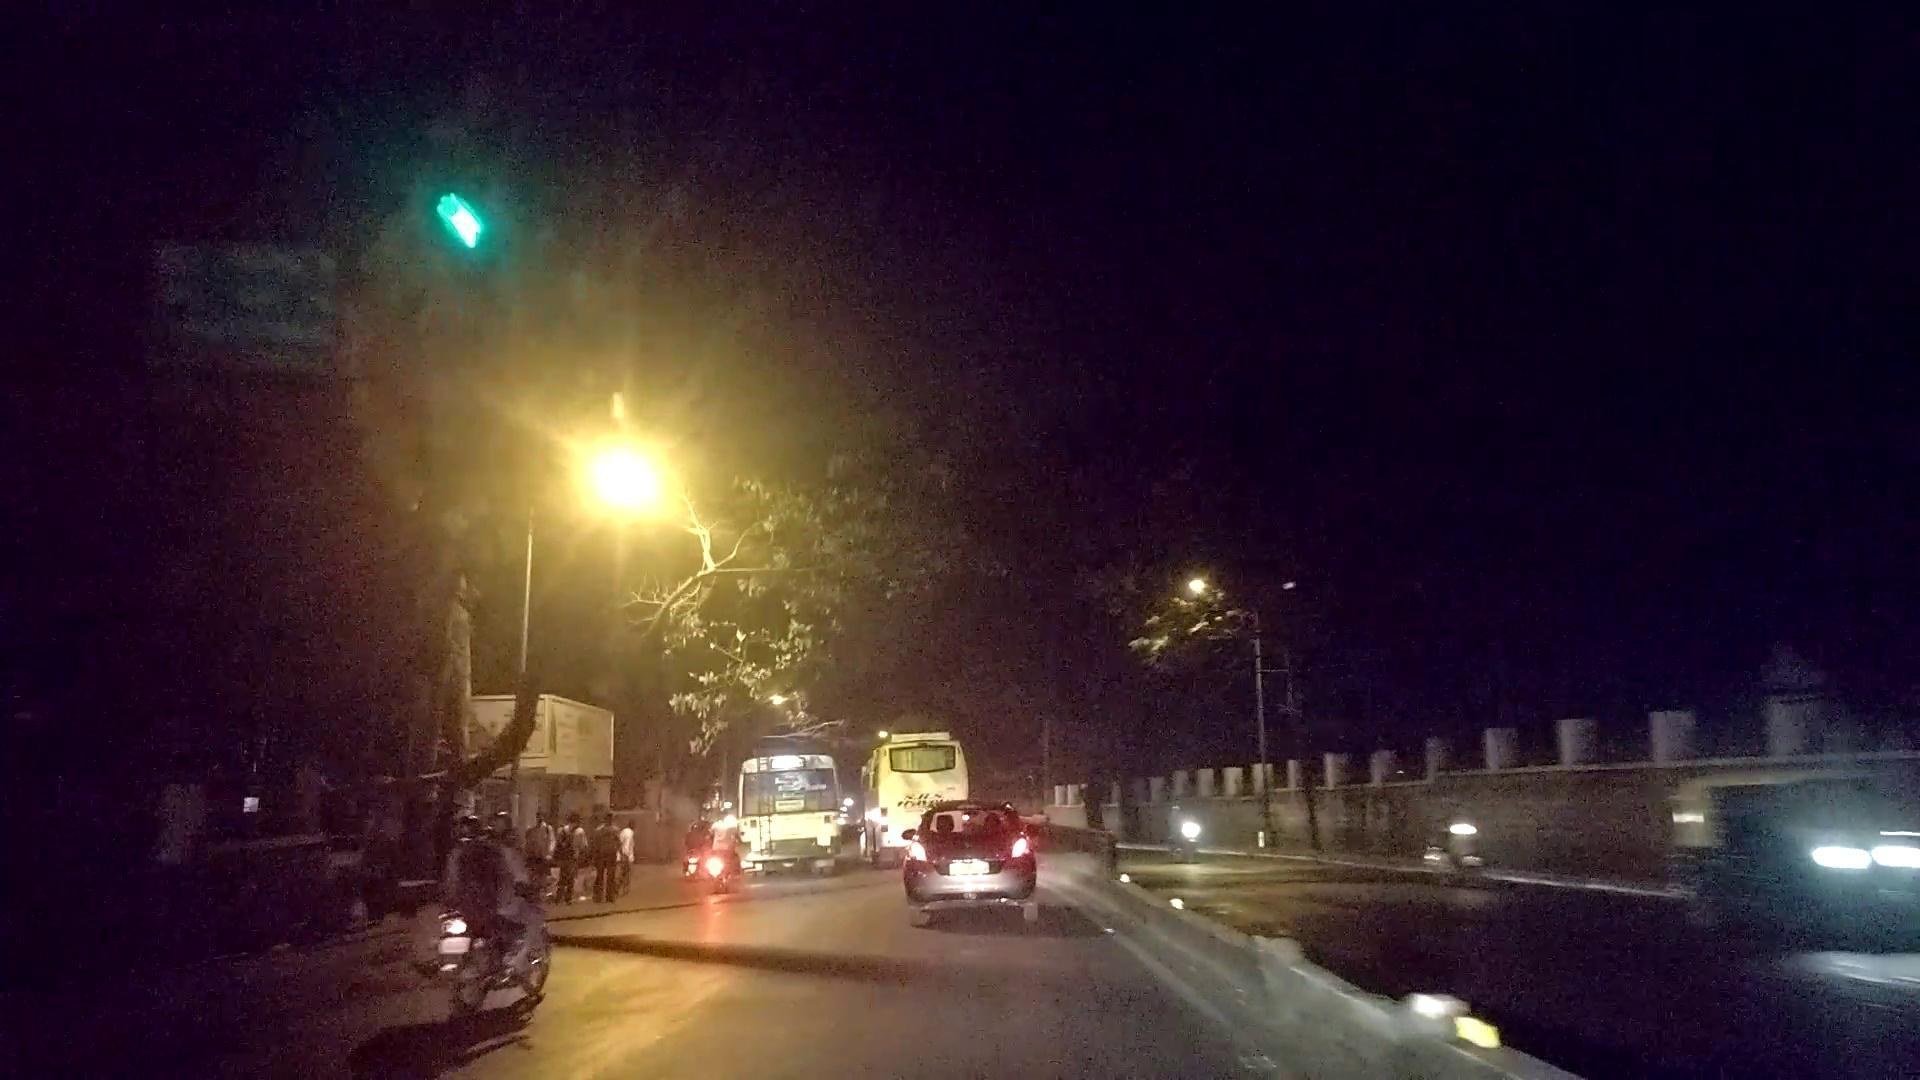on: (491, 272, 839, 707)
